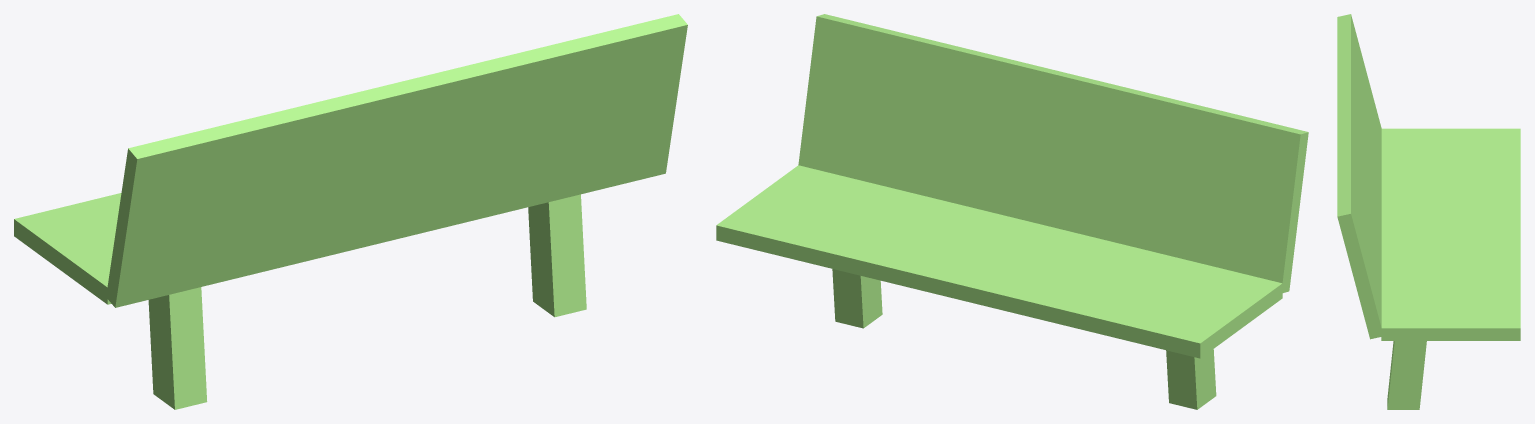
The model's file is Bench_COL.FBX.
3 renders of one model, left to right at view 1: azimuth 30°, elevation 25°; view 2: azimuth 150°, elevation 25°; view 3: azimuth 270°, elevation 25°, orthographic. The views are drawn at different scales.
Visible parts, largest first — view 1: Bench_COL; view 2: Bench_COL; view 3: Bench_COL.
Boxes of the visible parts, <box> form: Bench_COL: <box>14,14,687,409</box>; Bench_COL: <box>716,14,1308,409</box>; Bench_COL: <box>1337,14,1520,409</box>.
Size of the model in its own units: 168 by 86.54 by 65.13.
